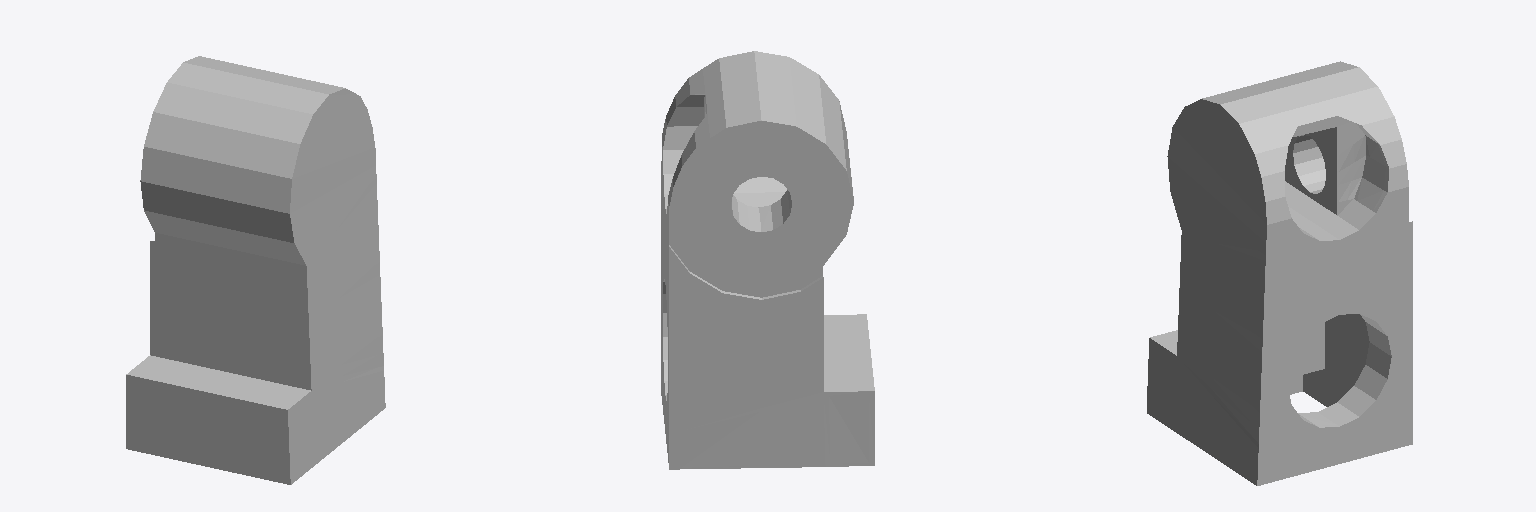
Rendered from person2PiernaI.obj.
The picture shows the model from 3 angles: view 1: azimuth 30°, elevation 25°; view 2: azimuth 150°, elevation 25°; view 3: azimuth 270°, elevation 25°; orthographic projection.
Parts seen in each view (by area): view 1: person1:legocharacter2lleg13 group1; view 2: person1:legocharacter2lleg13 group1; view 3: person1:legocharacter2lleg13 group1.
Part boxes in pixels (x1,y1,x2,y2): person1:legocharacter2lleg13 group1: (126, 56, 385, 484); person1:legocharacter2lleg13 group1: (661, 51, 874, 469); person1:legocharacter2lleg13 group1: (1147, 61, 1412, 485).
Size of the model in its own units: 0.5899 by 0.8224 by 0.5764.